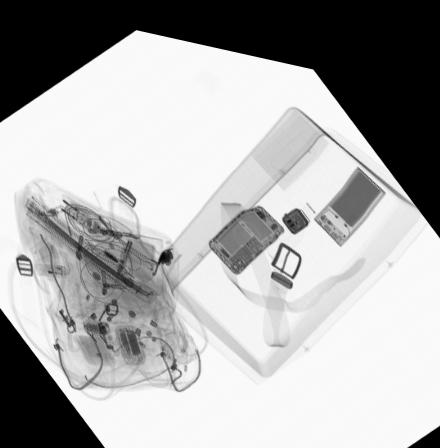Lighter: (33, 259, 64, 273)
